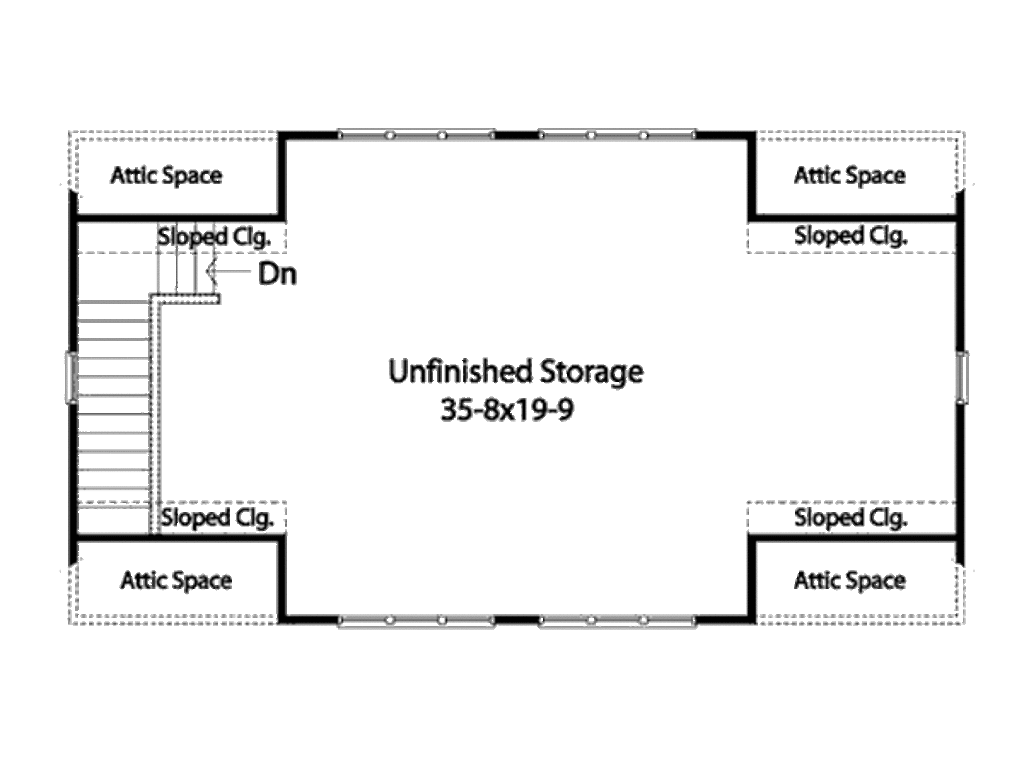stairs: (75, 223, 284, 532)
window: (336, 615, 497, 630), (539, 615, 695, 630), (342, 127, 495, 141), (543, 127, 689, 141), (956, 351, 973, 406)
